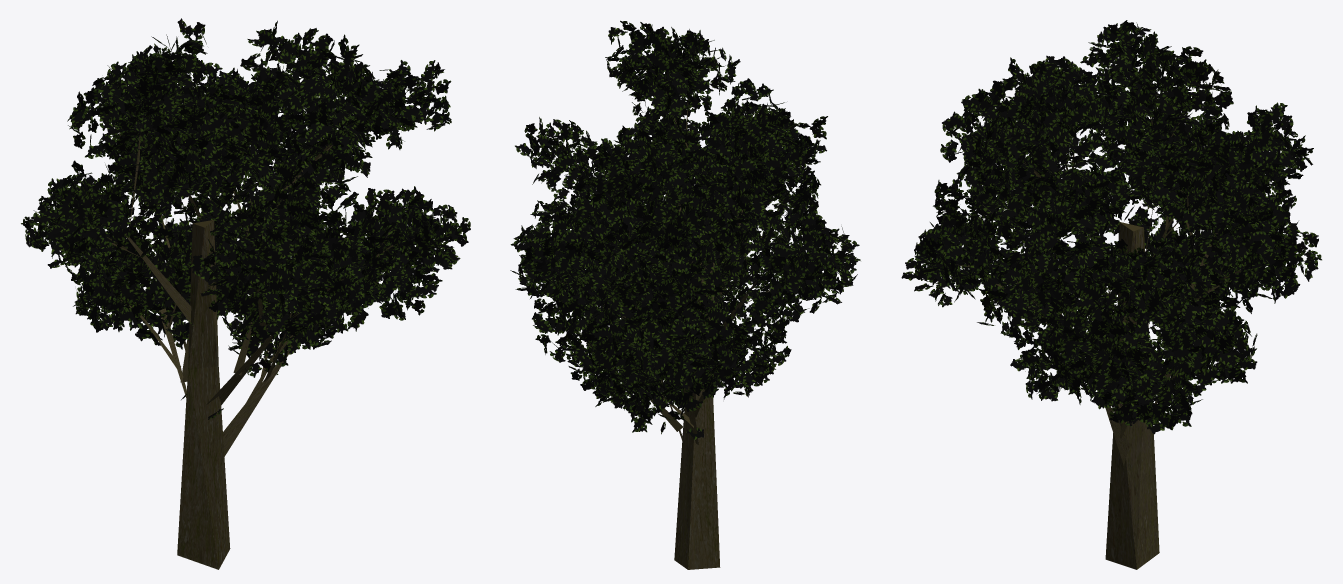
Rendered from broadleaf_giant_v02_LOD1.fbx.
The picture shows the model from 3 angles, left to right: view 1: azimuth 30°, elevation 25°; view 2: azimuth 150°, elevation 25°; view 3: azimuth 270°, elevation 25°; orthographic projection. The views are drawn at different scales.
Parts seen in each view (by area): view 1: broadleaf_giant_v02_LOD1; view 2: broadleaf_giant_v02_LOD1; view 3: broadleaf_giant_v02_LOD1.
Part boxes in pixels (x1,y1,x2,y2): broadleaf_giant_v02_LOD1: [21, 18, 470, 569]; broadleaf_giant_v02_LOD1: [510, 20, 860, 569]; broadleaf_giant_v02_LOD1: [901, 20, 1321, 569].
Bounding box in the file's own units: 3060 × 2883 × 3868.
Materials: 2 (2 with a texture image).
